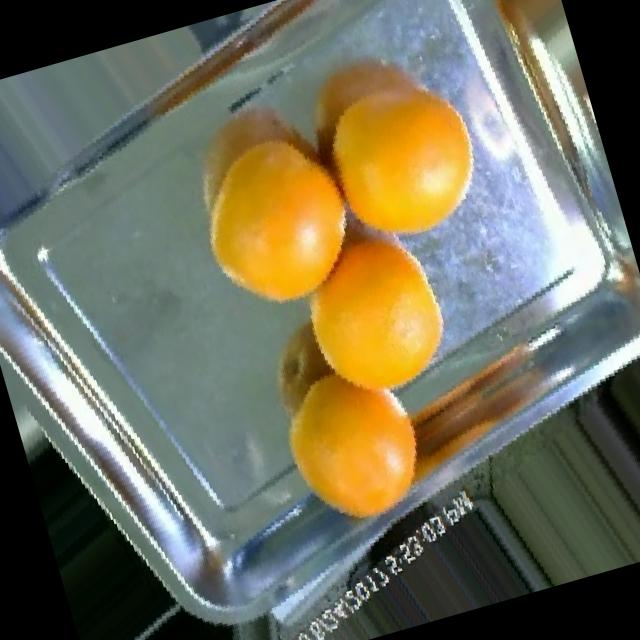Fruit: (224, 168, 502, 448), (263, 13, 526, 290), (164, 102, 393, 342), (242, 316, 463, 563)
